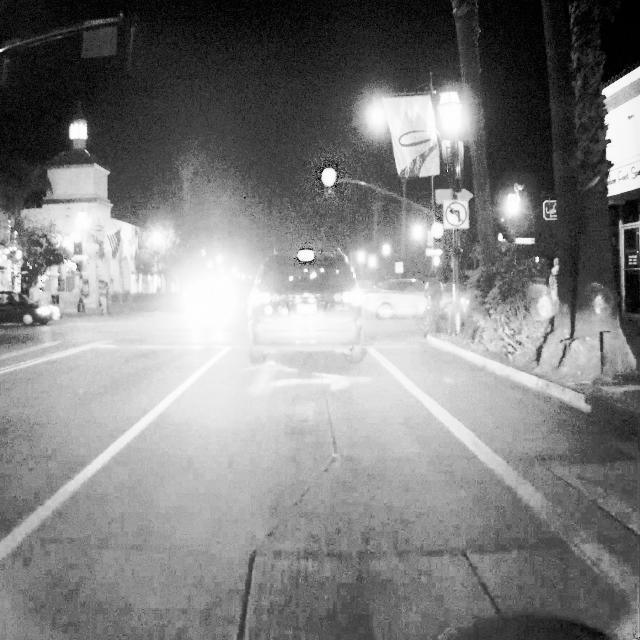Tree: (528, 0, 639, 390)
